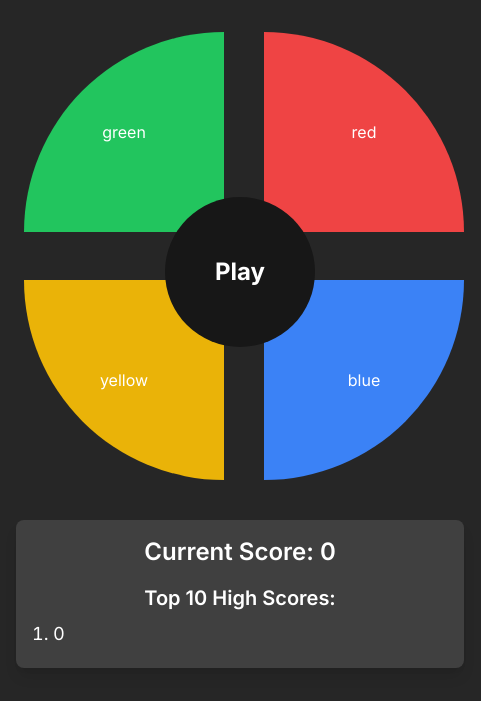
SimonGame › handles incorrect sequence input and resets
Click the button "Play".
click(240, 272)  # box [165,197,315,347]
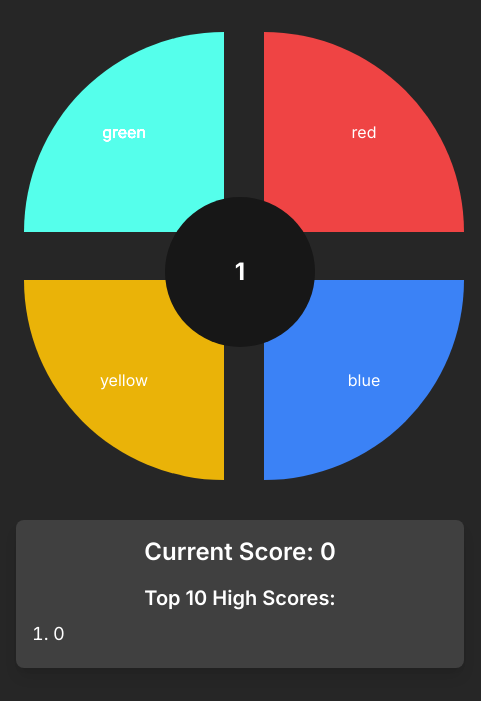
Click the button "red".
click(364, 132)  # box [264,32,464,232]
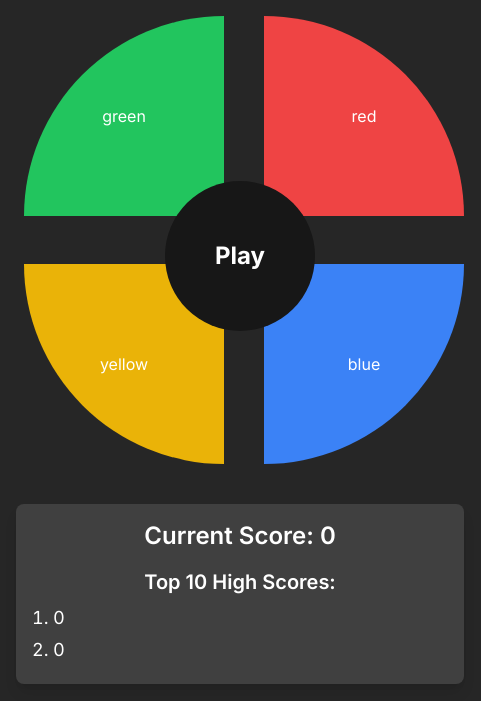
Expected: the button "Play" is shown, [165,181,315,331]
